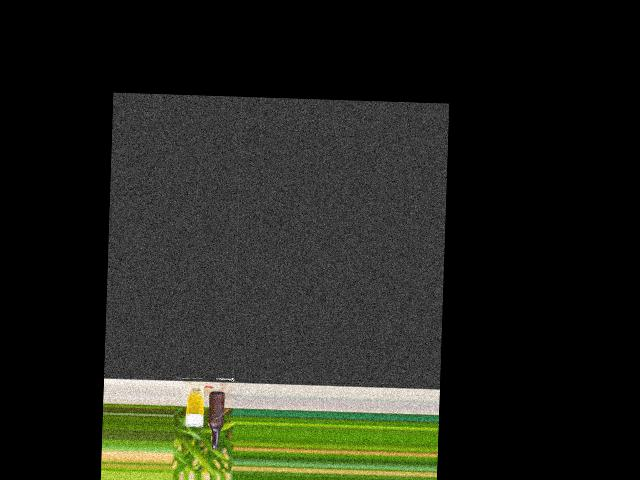beer: (207, 391, 223, 449)
